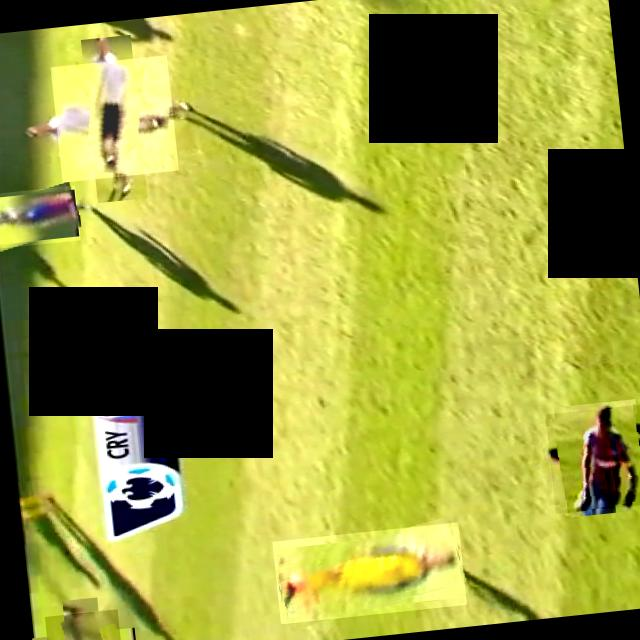referee: (50, 54, 178, 182)
soccer-player: (272, 520, 466, 622), (545, 402, 640, 512), (0, 184, 80, 248), (44, 608, 122, 640)
